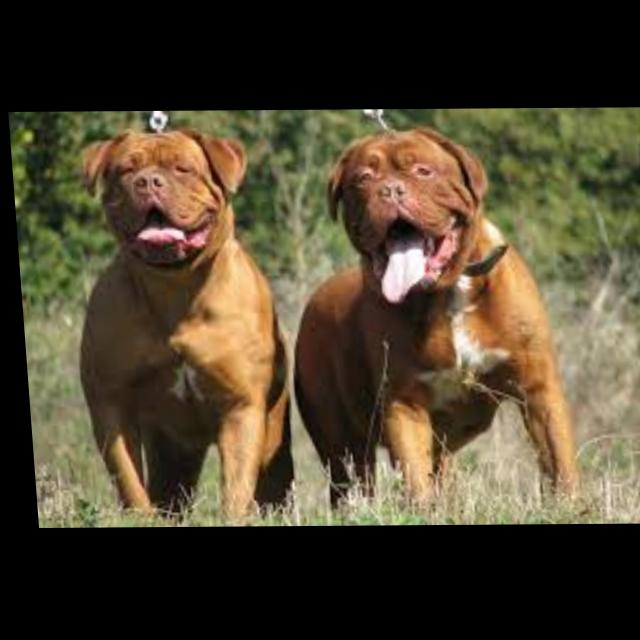dogue_de_bordeaux: (273, 126, 577, 515), (60, 127, 294, 527)
